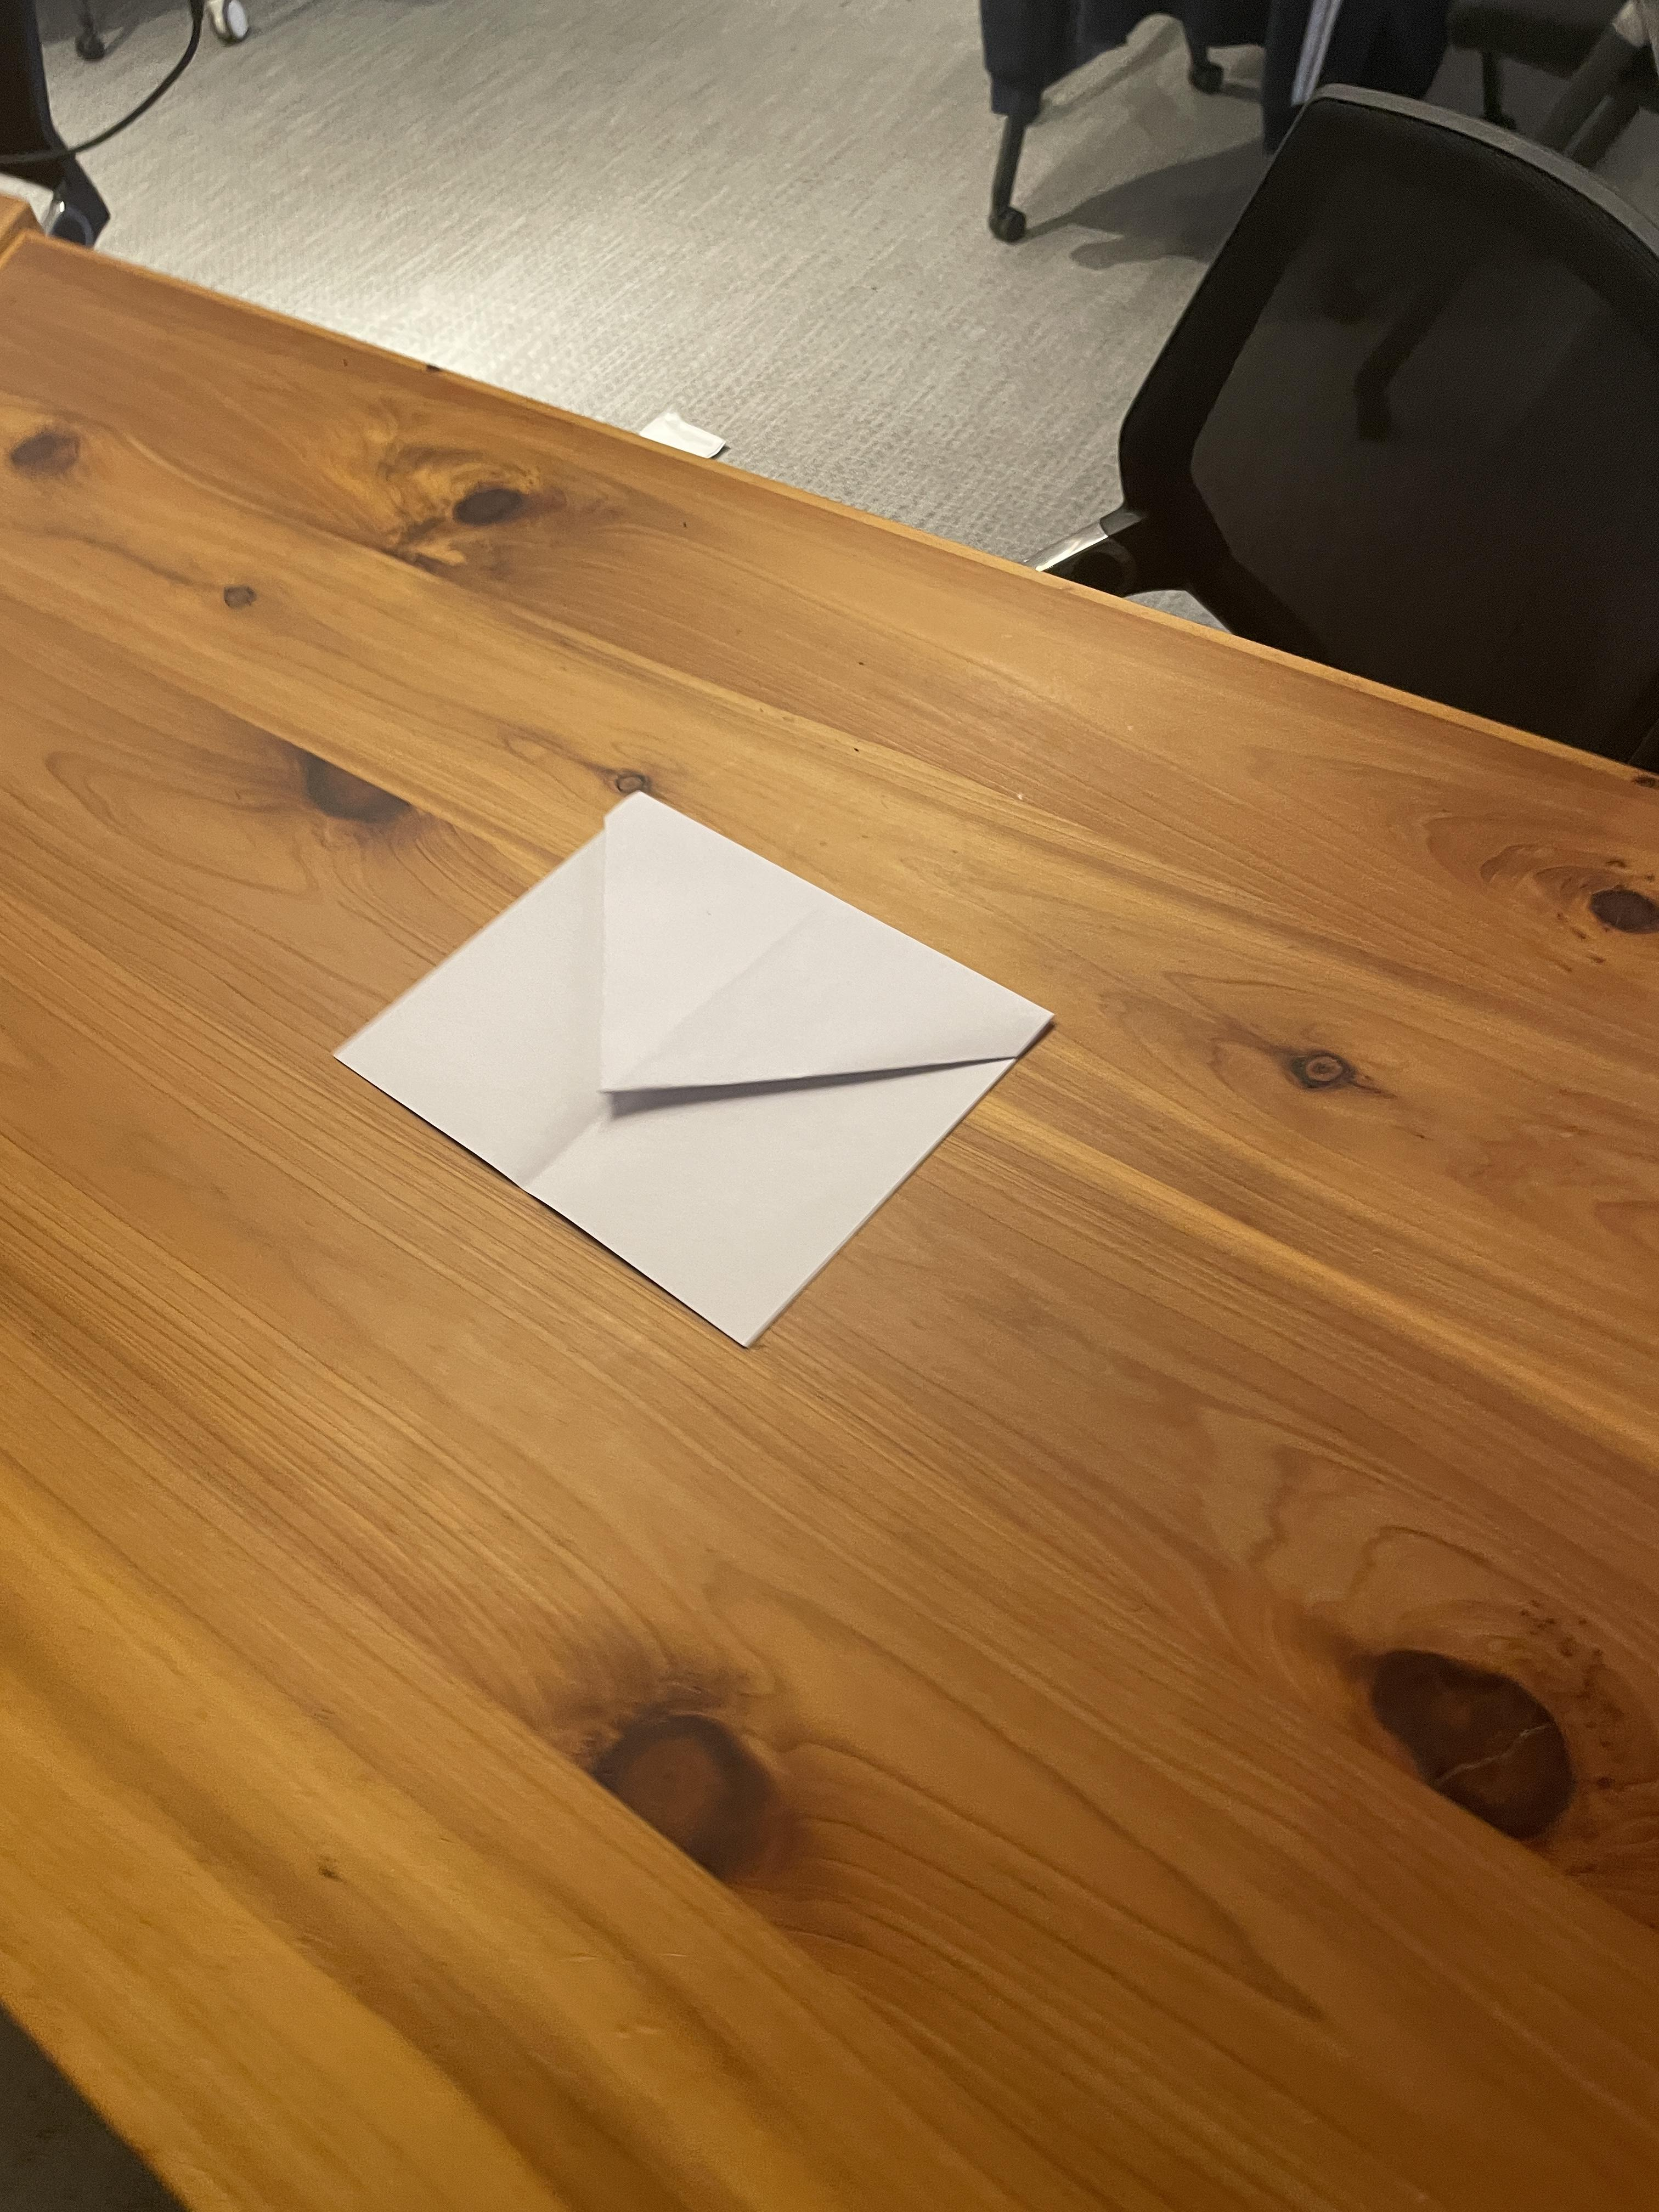shape_1: (319, 627, 1145, 1468)
